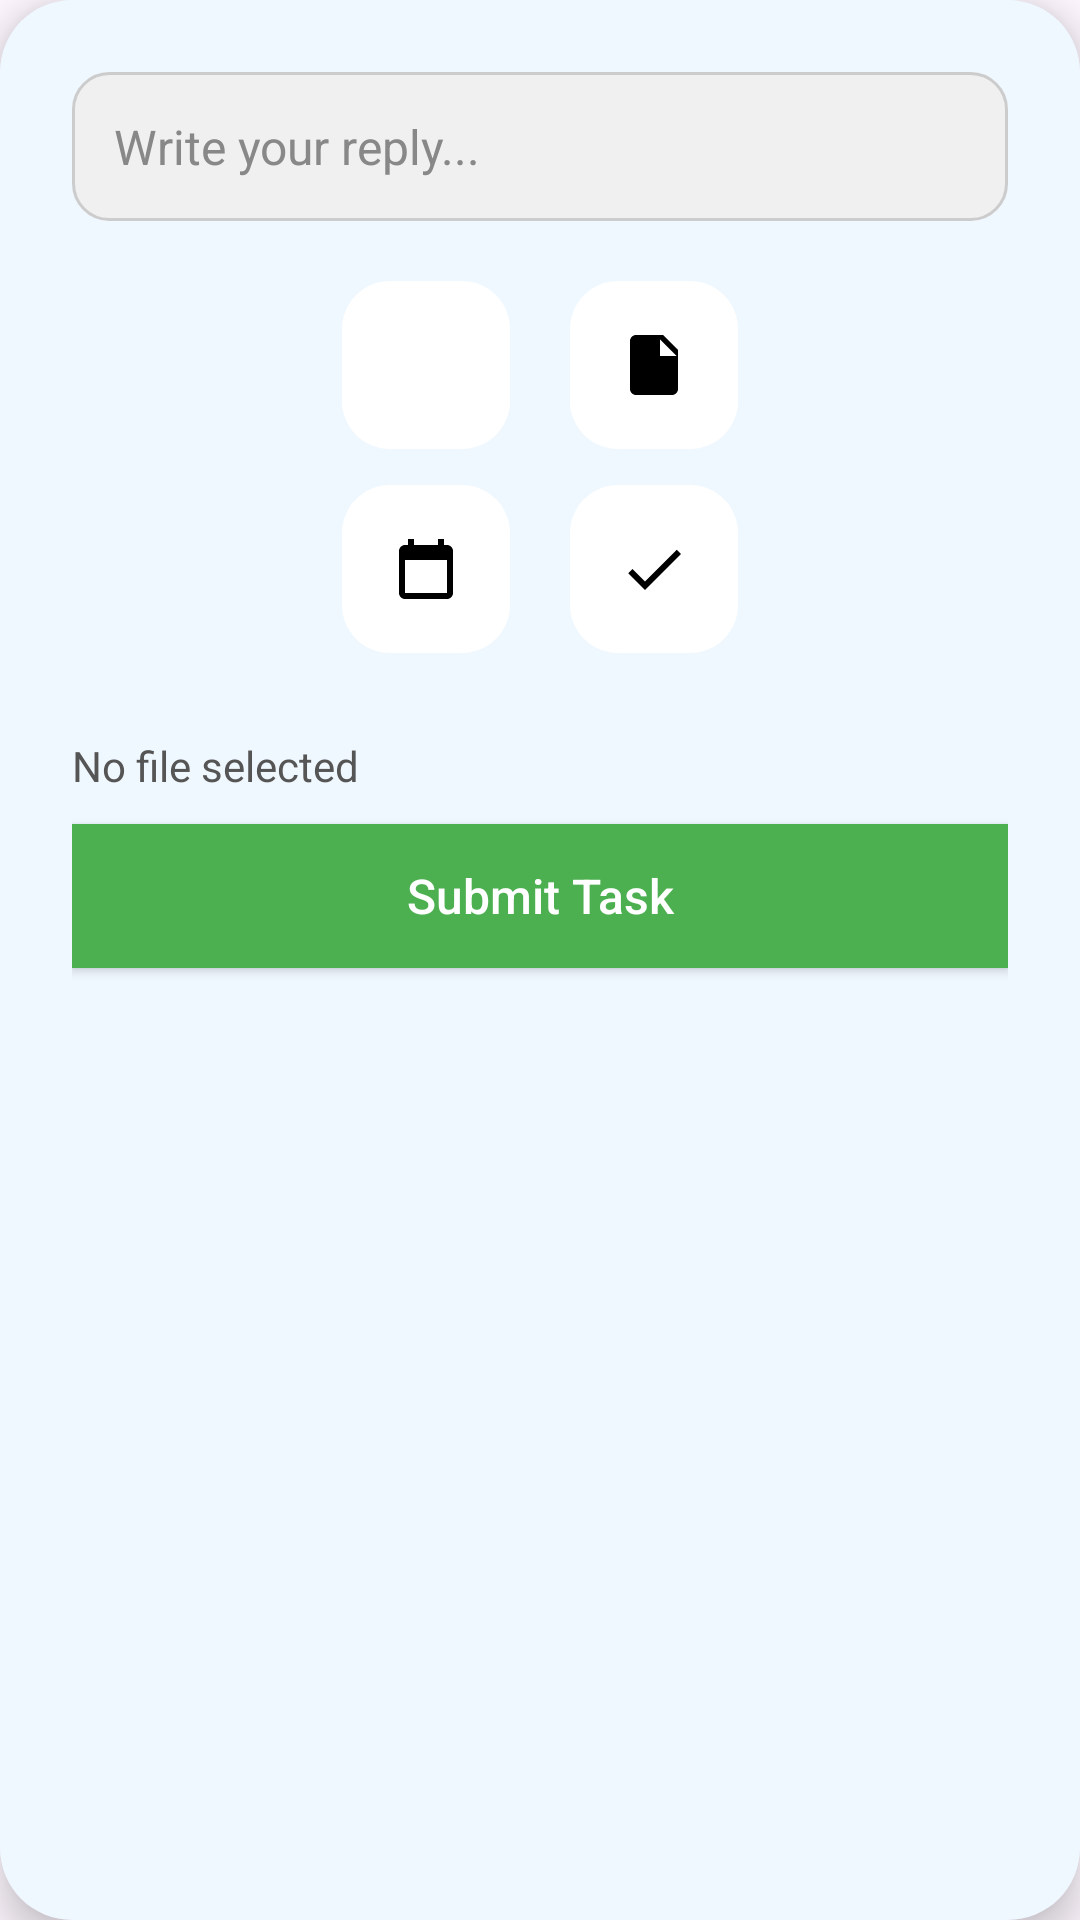

Icon bounding boxes for this 1080px x 1920px phone screenshot, format box(x1, y1, x2, y2):
calendar: box(342, 485, 510, 653)
check: box(570, 485, 738, 653)
file: box(630, 335, 678, 395)
